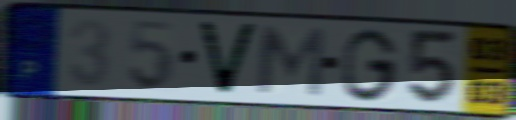3: (67, 16, 115, 91)
5: (408, 27, 460, 108), (126, 17, 178, 94)
G: (340, 26, 401, 104)
M: (253, 24, 328, 100)
V: (194, 18, 262, 99)
